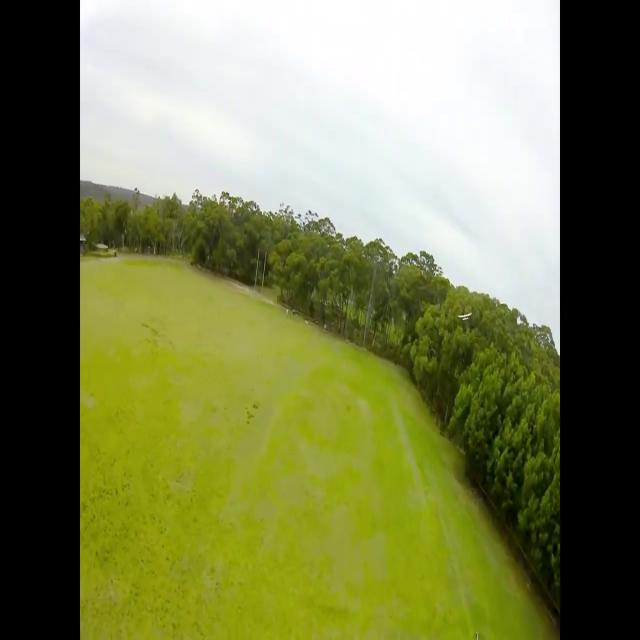iha: (459, 316, 471, 319)
